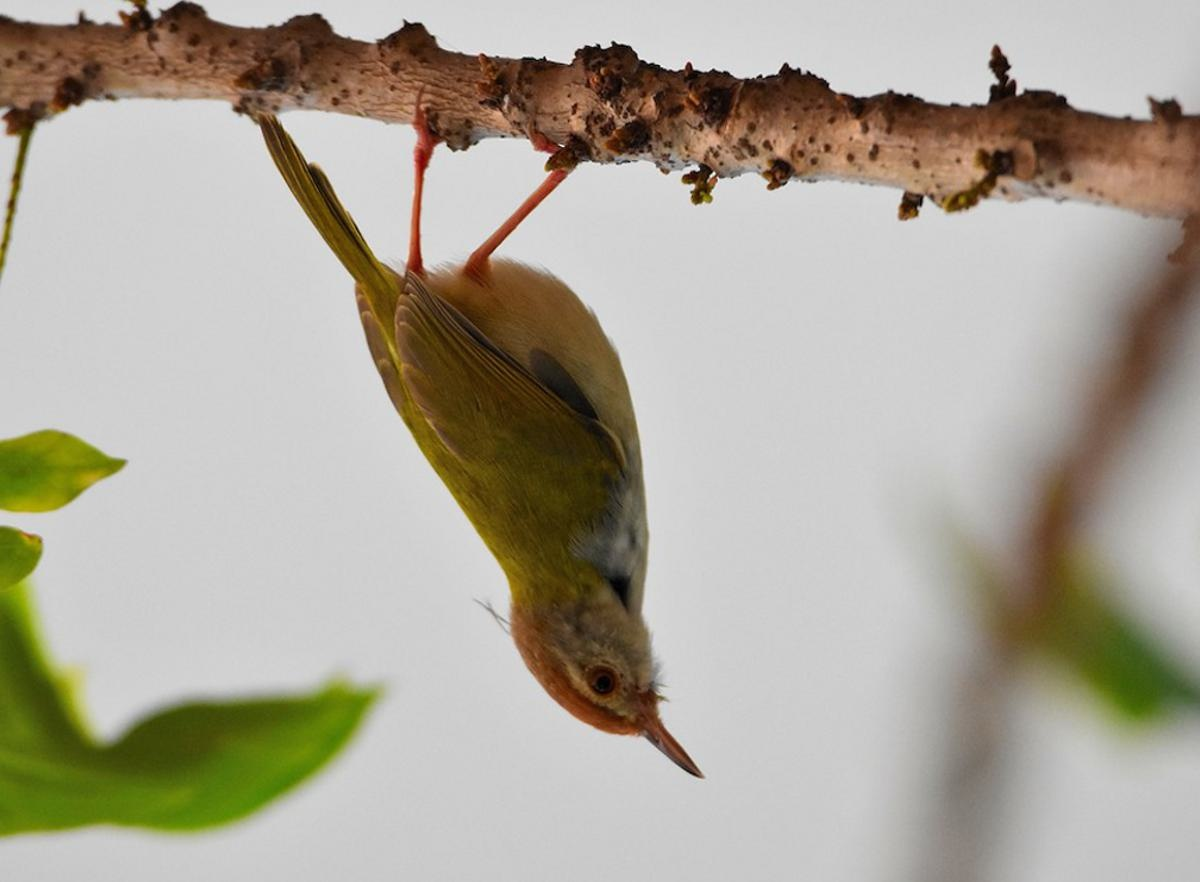tailorbird: (206, 34, 725, 804)
